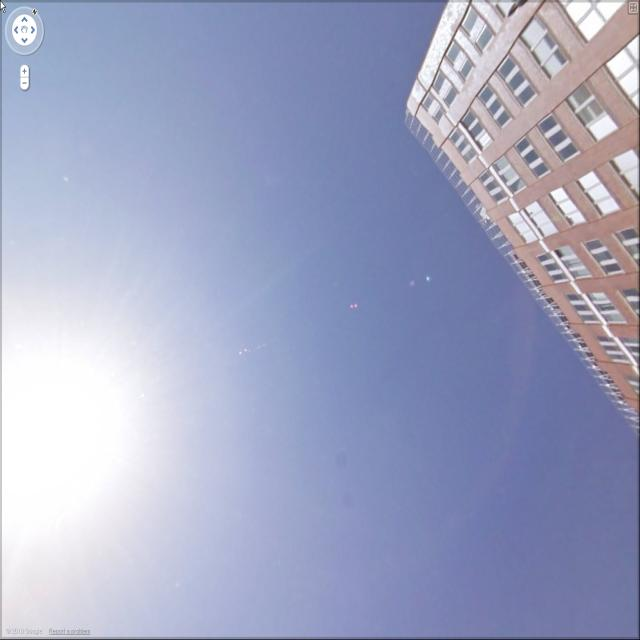b_1: (398, 1, 640, 433)
